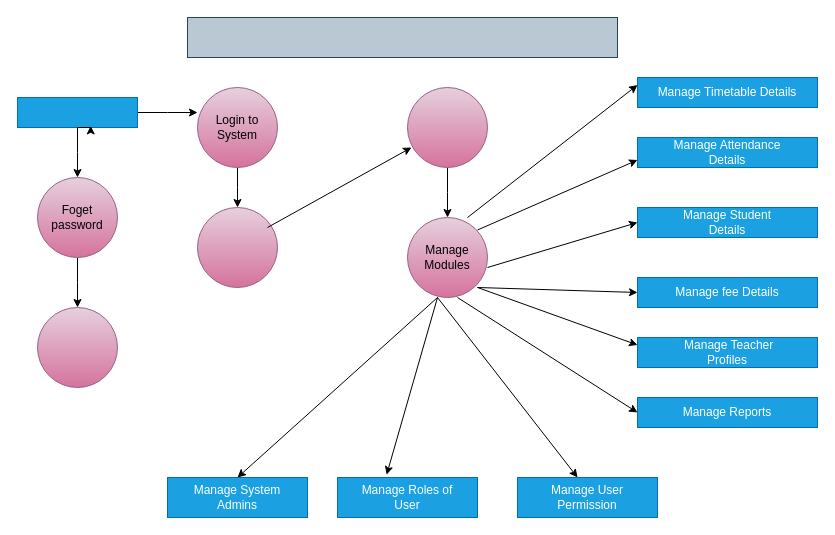
Some shapes in this 835 by 535 pixel diagram are drawn without their labels. The shapes that lost their labels are listed below. From the top down, each one's centre as x and y in pixels, then its label:
At pixel 402 37: "Student Information System".
At pixel 77 112: "Admin".
At pixel 447 127: "Check Roles of Access".
At pixel 237 247: "Check Credentials".
At pixel 77 347: "Send Email to User".
